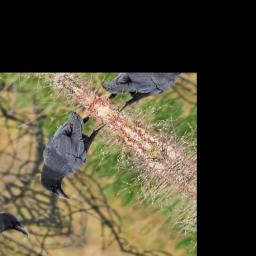Crow: (12, 102, 132, 205)
